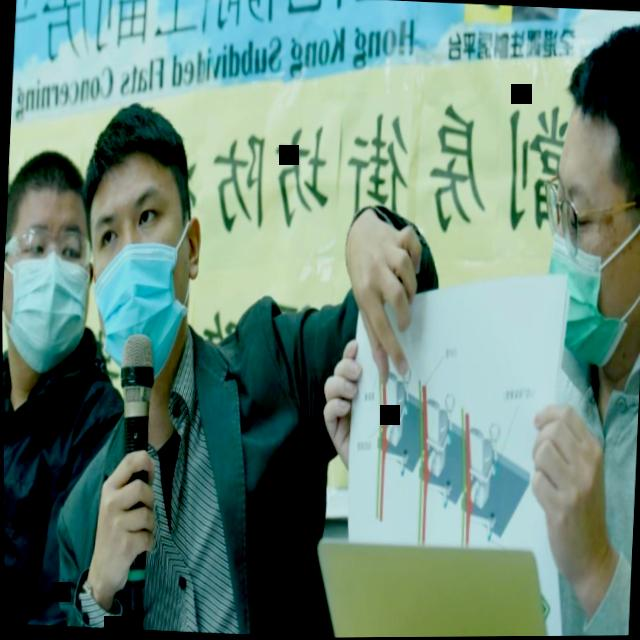Mask: (75, 88, 216, 398), (531, 16, 640, 388), (1, 112, 103, 380)
